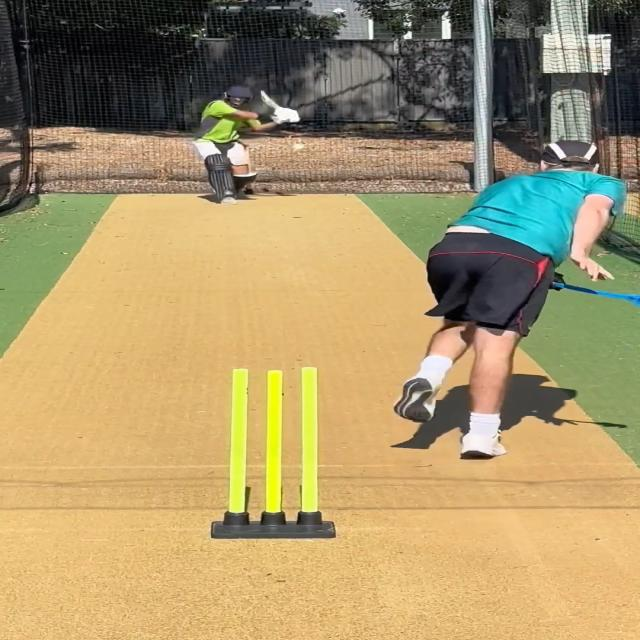ball: (289, 141, 306, 152)
stump: (218, 366, 329, 539)
